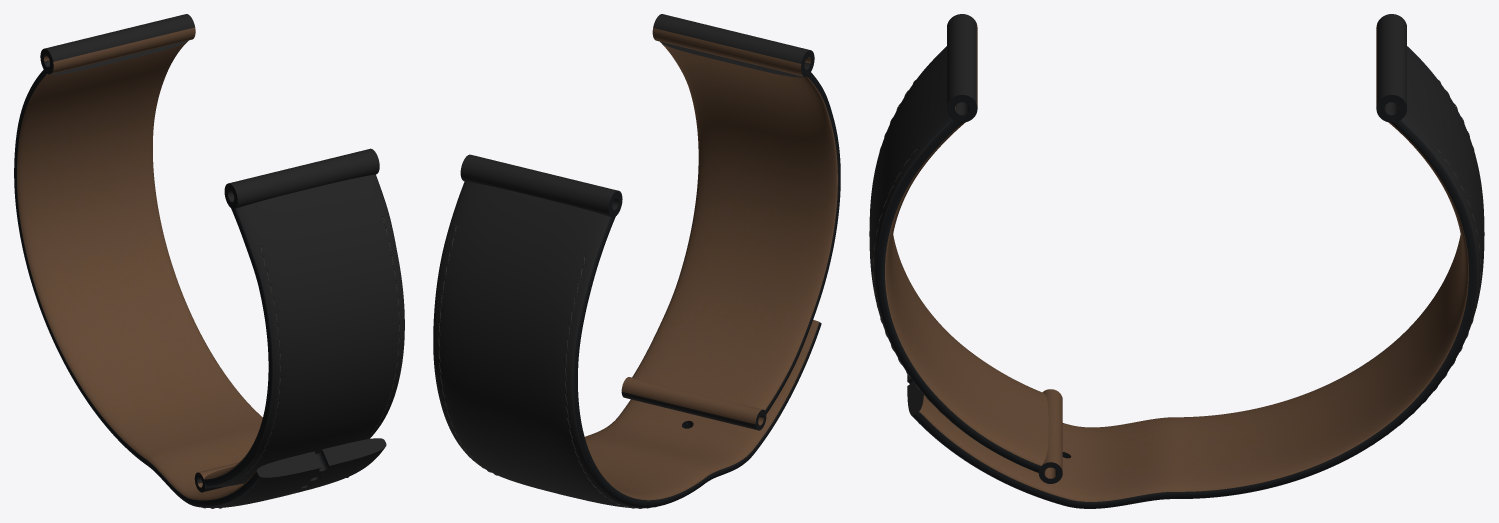
The model's file is quality-study__leather-craft-r11.meshopt.glb.
3 views of the same model, side by side, from view 1: azimuth 30°, elevation 25°; view 2: azimuth 150°, elevation 25°; view 3: azimuth 270°, elevation 25° (orthographic). The views are drawn at different scales.
Visible parts, largest first — view 1: R11 / upper strap, R11 / lower strap, R11 / lower seated three-ply stitches; view 2: R11 / upper strap, R11 / lower strap, R11 / upper seated three-ply stitches; view 3: R11 / upper strap, R11 / lower strap.
Boxes of the visible parts, <box> form: R11 / upper strap: <box>14,14,386,508</box>; R11 / lower strap: <box>194,148,404,492</box>; R11 / lower seated three-ply stitches: <box>241,216,399,477</box>; R11 / upper strap: <box>433,154,821,508</box>; R11 / lower strap: <box>621,14,840,430</box>; R11 / upper seated three-ply stitches: <box>438,225,656,508</box>; R11 / upper strap: <box>907,14,1484,508</box>; R11 / lower strap: <box>869,14,1062,483</box>.
Size of the model in its own units: 20 by 48.84 by 64.14.
4 materials, 2 textured.
